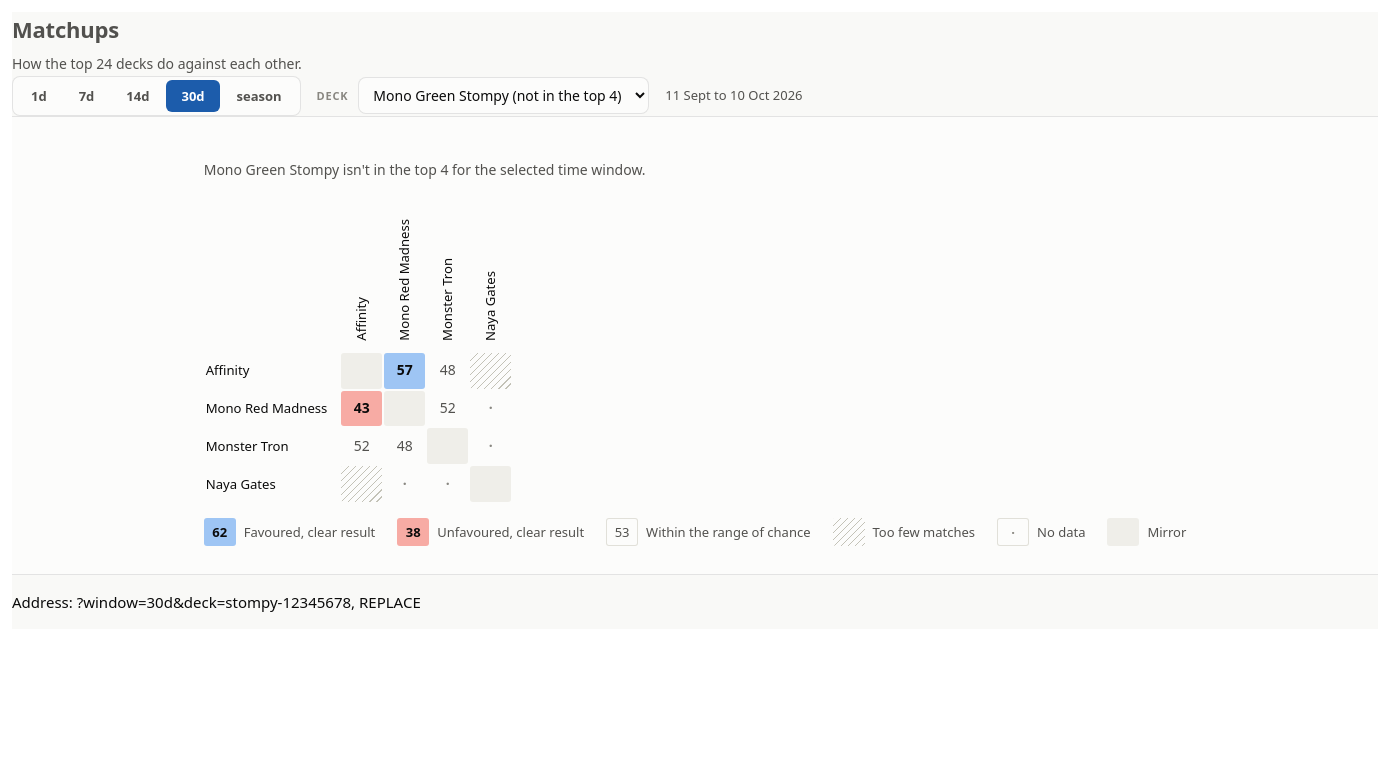
Test case: MatchupsPage › lets any choice replace a deck outside the top decks, All decks included
Step 1. Select "All decks" in the dropdown labelled "Deck" → (504,96), box [358, 77, 649, 114]
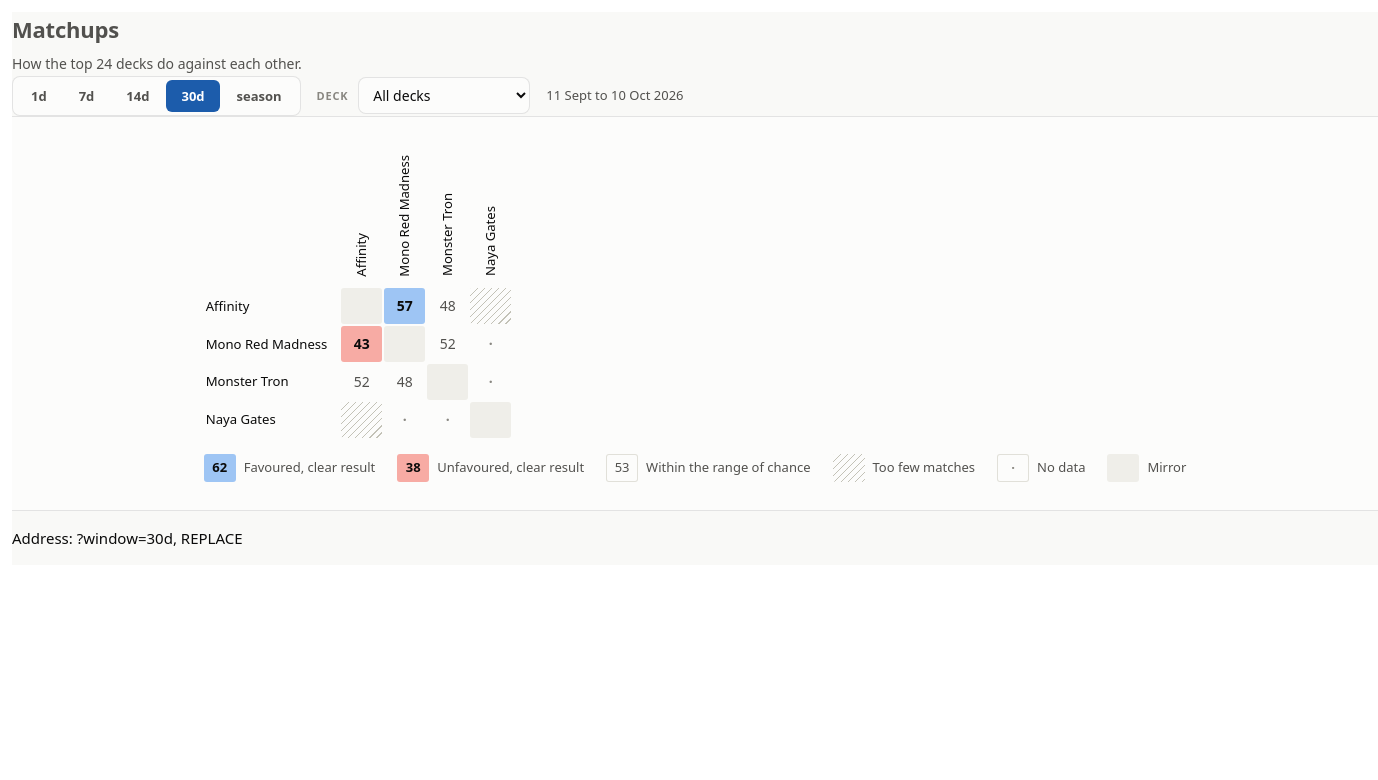
expect the option "not in the top" is not shown: met
expect the text "Address: ?window=30d, REPLACE" is shown: met, box [12, 528, 242, 548]
